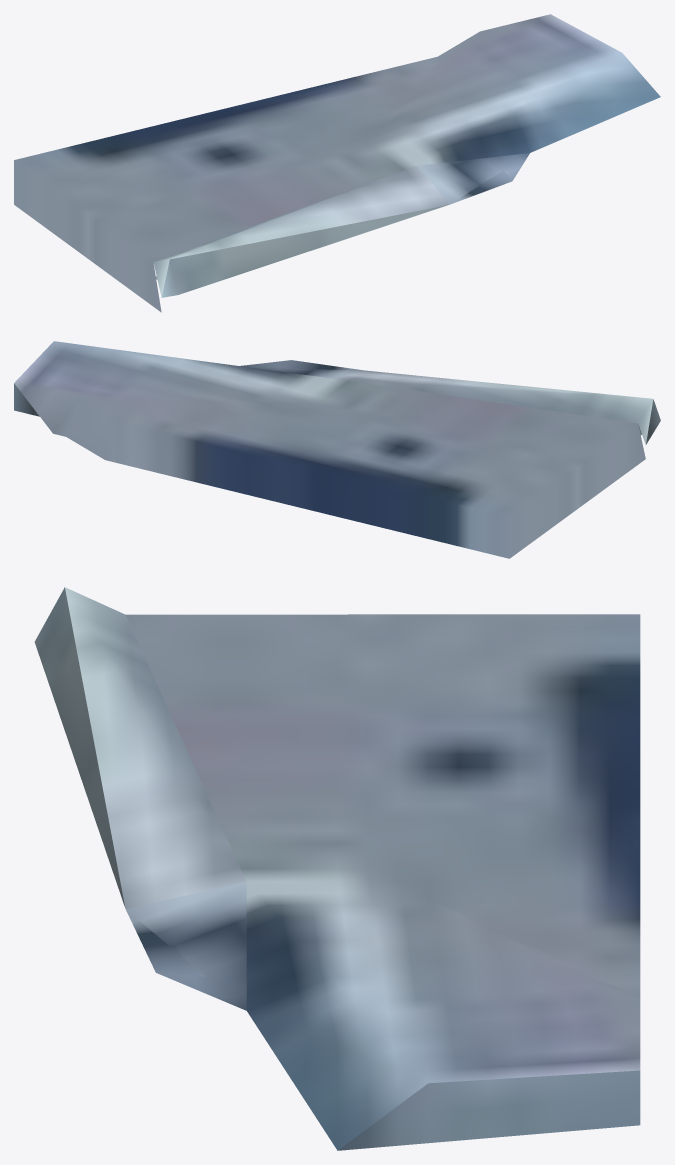
The picture shows the model from 3 angles, top to bottom: view 1: azimuth 30°, elevation 25°; view 2: azimuth 150°, elevation 25°; view 3: azimuth 270°, elevation 25°; orthographic projection. The views are drawn at different scales.
Parts seen in each view (by area): view 1: 3043627270436171746_0; view 2: 3043627270436171746_0; view 3: 3043627270436171746_0.
Boxes of the visible parts, x1,y1,x2,y2 form: 3043627270436171746_0: (14, 14, 660, 312); 3043627270436171746_0: (14, 341, 660, 558); 3043627270436171746_0: (34, 587, 640, 1150).
Size of the model in its own units: 12.27 by 1.24 by 6.17.
Materials: 1 (1 with a texture image).
